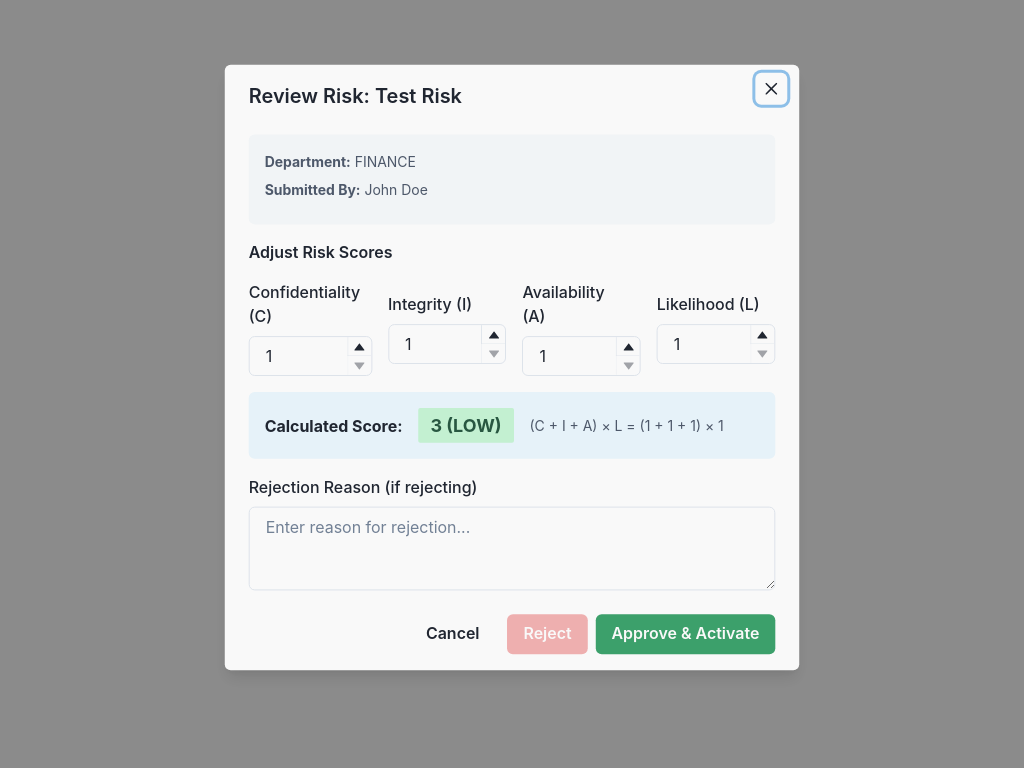
RiskApprovalModal › Score Calculation › should update calculated score when scores change
This screenshot has width=1024, height=768.
Check: the text "3 (LOW)" is shown, box top-left (418, 408), bottom-right (514, 443)
Replace the text in the number field labelled "Confidentiality (C)" with "5" at (310, 356), box top-left (249, 336), bottom-right (372, 376)
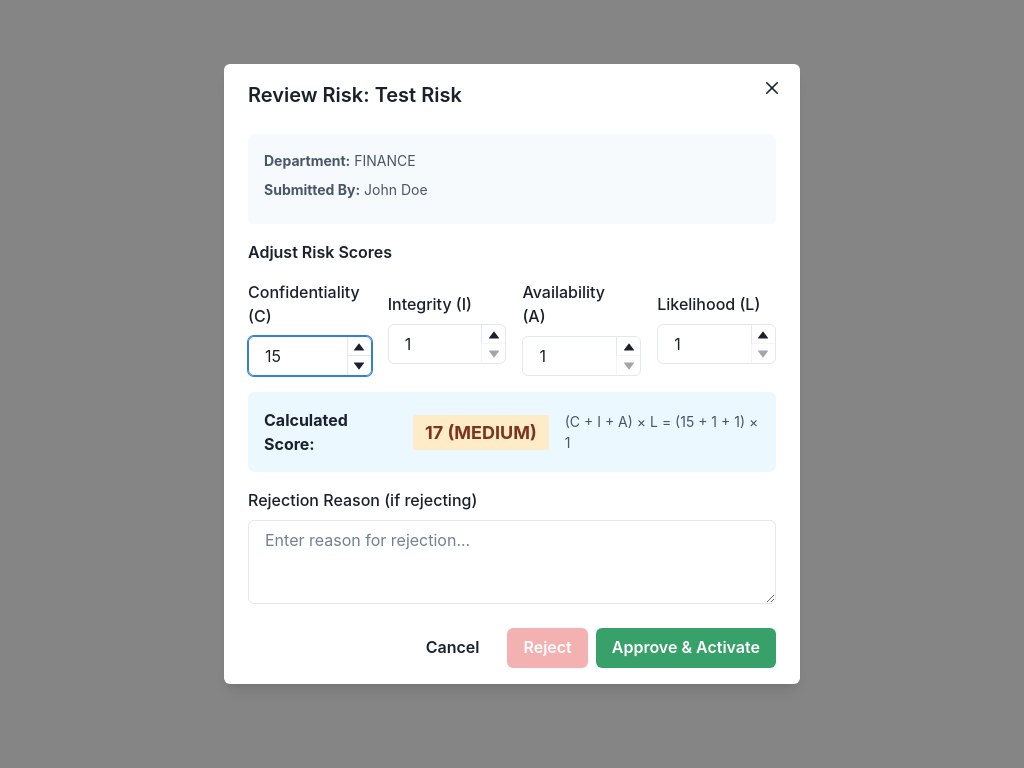
Check: the text "17 (MEDIUM)" is shown, box top-left (413, 414), bottom-right (549, 450)
